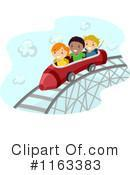person: (48, 40, 72, 67), (65, 35, 85, 63), (81, 33, 101, 57)
